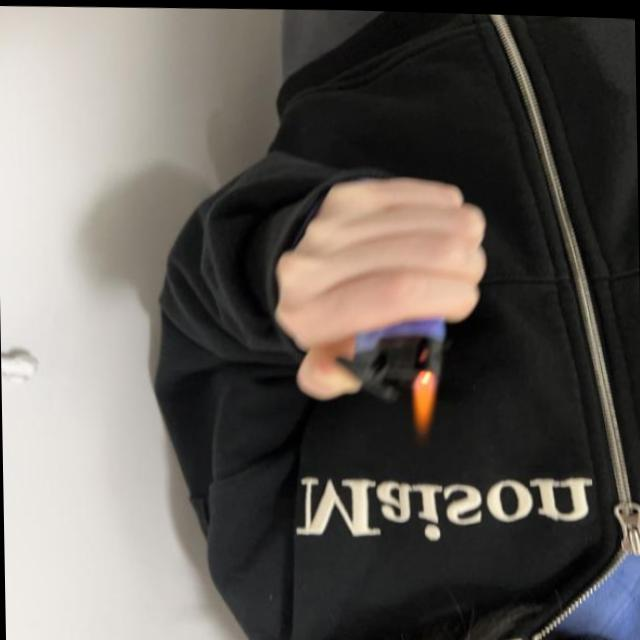Fire: (409, 366, 440, 441)
